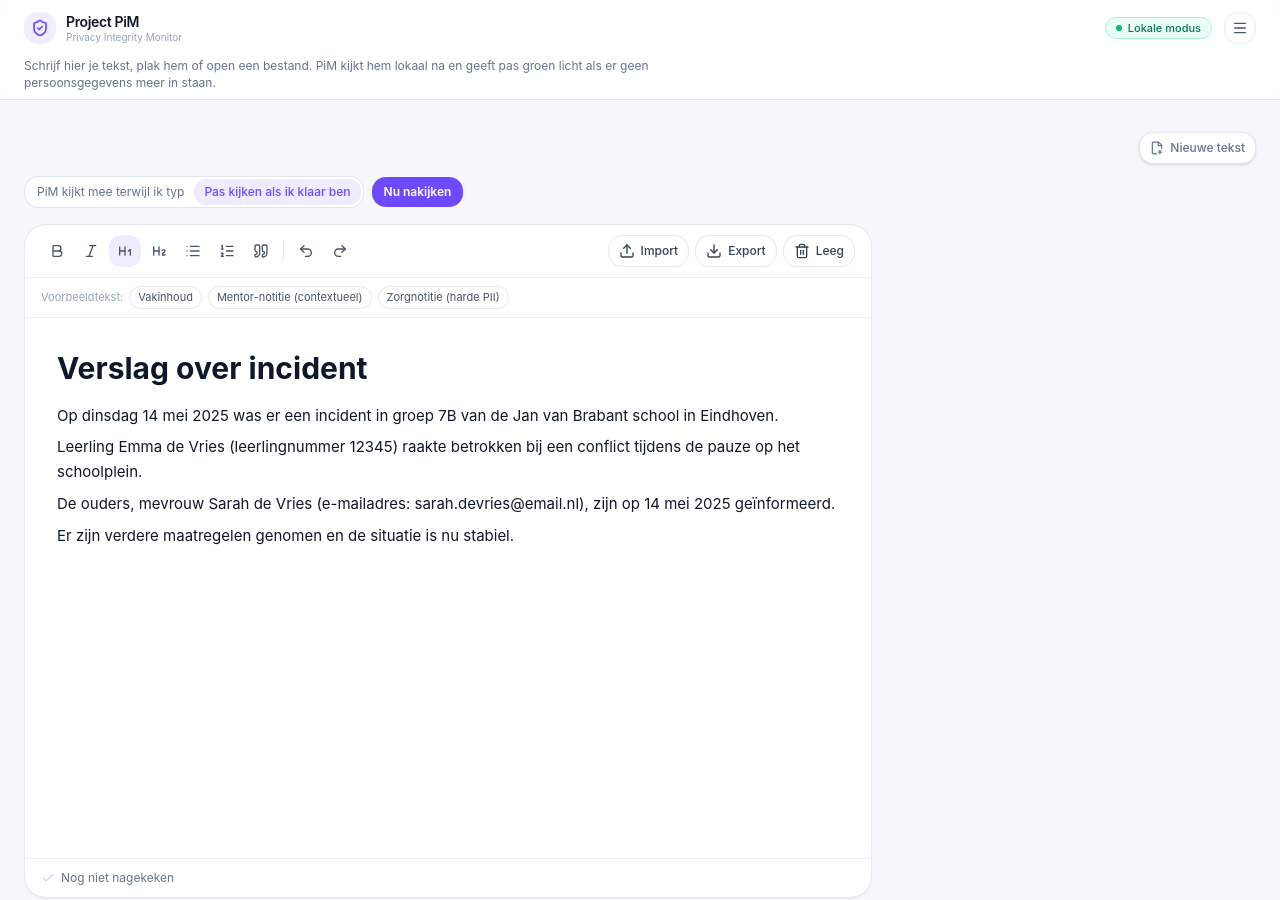
Test: Gedeeld zijpaneel › de menuknop opent het menu met instellingen, diagnostiek en achtergrond
The width and height of the screenshot is (1280, 900).
Click the button with test id "open-menu": (1240, 28) [1224, 12, 1256, 44]
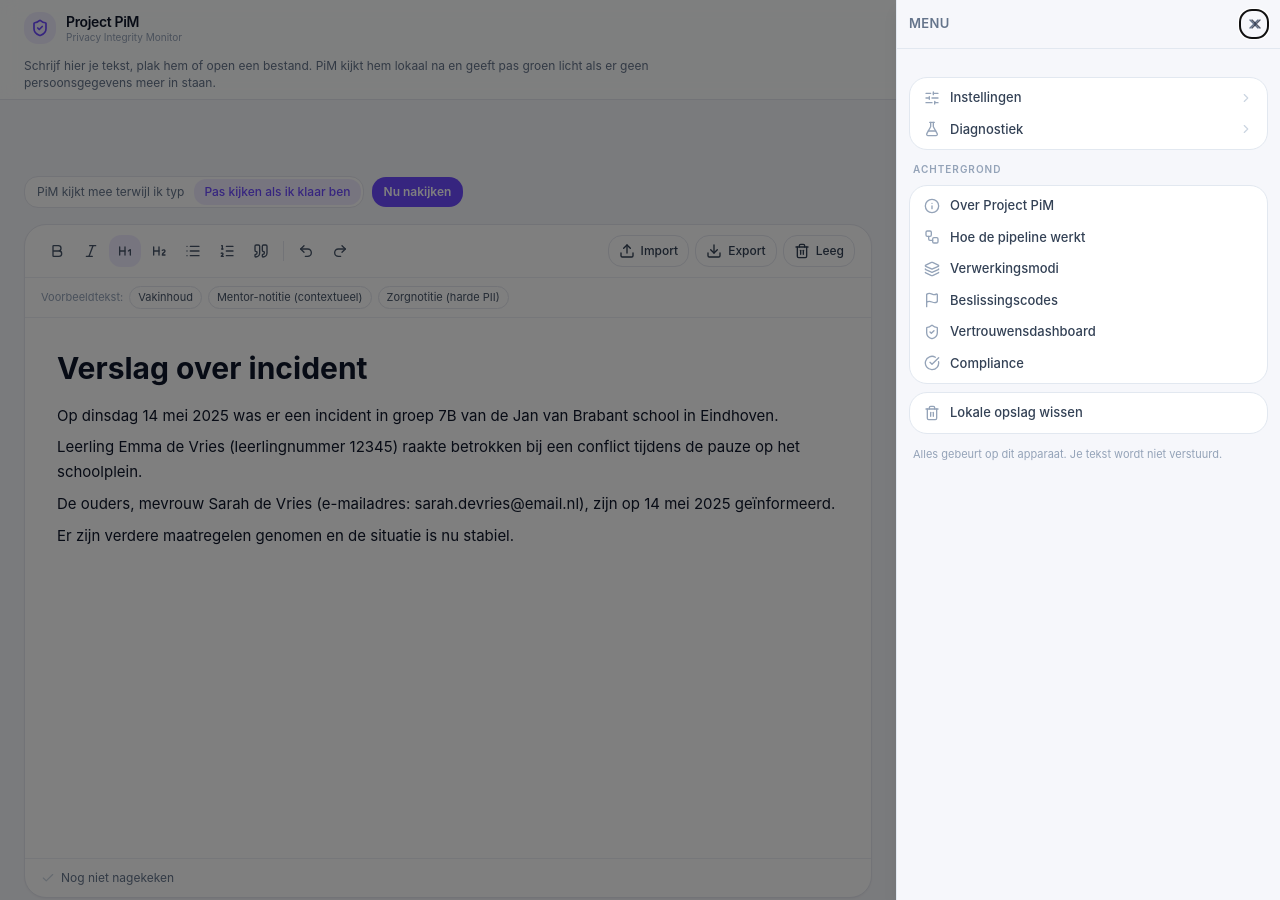
Result: the number of dialogs with test id "side-panel" is 1 at [896, 0, 1279, 899]
Result: the element with test id "panel-menu" is shown at [909, 77, 1268, 463]
Result: the button with test id "menu-item-settings" is shown at [914, 82, 1263, 114]
